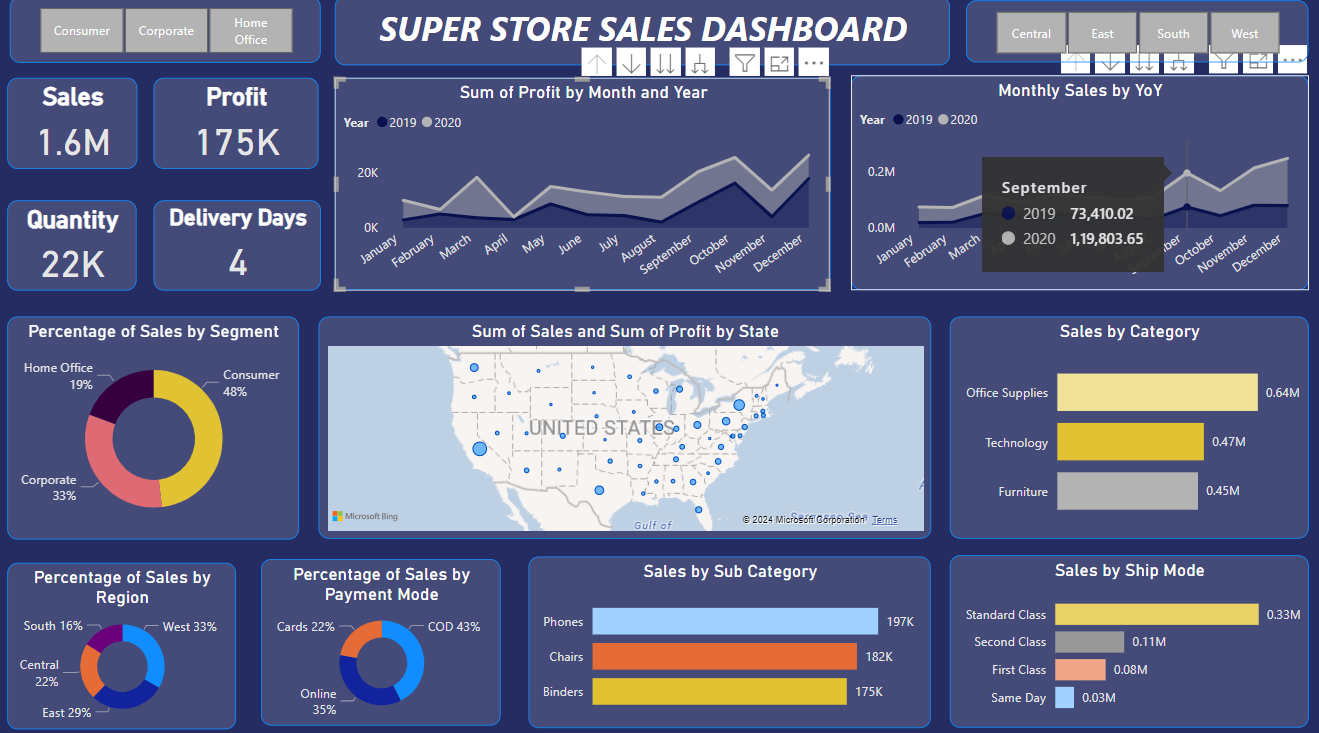

What the dashboard file says about the page in this screenshot:
{"tool":"powerbi","page":{"name":"Page 1","canvas":[1280,720],"ordinal":0},"visuals":[{"type":"clusteredBarChart","title":"Sales by Category","fields":{"Category":["SuperStore_Sales_Dataset.Category"],"Y":["Sum(SuperStore_Sales_Dataset.Sales)"]},"box":[920.2,311.2,346.1,214.7],"z":0},{"type":"clusteredBarChart","title":"Sales by Sub Category","fields":{"Category":["SuperStore_Sales_Dataset.Sub-Category"],"Y":["Sum(SuperStore_Sales_Dataset.Sales)"]},"box":[513.8,542.7,388.3,165.2],"z":1000},{"type":"clusteredBarChart","title":"Sales by Ship Mode","fields":{"Category":["SuperStore_Sales_Dataset.Ship Mode"],"Y":["Sum(SuperStore_Sales_Dataset.Sales)"]},"box":[920,541.2,346.2,166.2],"z":2000},{"type":"stackedAreaChart","title":"Monthly Sales by YoY","fields":{"Y":["Sum(SuperStore_Sales_Dataset.Sales)"],"Category":["SuperStore_Sales_Dataset.Order Date.Variation.Date Hierarchy.Month","SuperStore_Sales_Dataset.Order Date.Variation.Date Hierarchy.Day"],"Series":["SuperStore_Sales_Dataset.Order Date.Variation.Date Hierarchy.Year"]},"box":[825,78.8,441.2,207.5],"z":3000},{"type":"stackedAreaChart","fields":{"Category":["SuperStore_Sales_Dataset.Order Date.Variation.Date Hierarchy.Month","SuperStore_Sales_Dataset.Order Date.Variation.Date Hierarchy.Day"],"Series":["SuperStore_Sales_Dataset.Order Date.Variation.Date Hierarchy.Year"],"Y":["Sum(SuperStore_Sales_Dataset.Profit)"]},"box":[326.2,81.2,478.8,205],"z":4000},{"type":"map","fields":{"Category":["SuperStore_Sales_Dataset.State"],"Size":["Sum(SuperStore_Sales_Dataset.Sales)"]},"box":[311.2,311.2,591,214.7],"z":5000},{"type":"donutChart","title":"Percentage of Sales by Segment","fields":{"Category":["SuperStore_Sales_Dataset.Segment"],"Y":["Sum(SuperStore_Sales_Dataset.Sales)"]},"box":[11.2,311.2,281.2,215],"z":6000},{"type":"donutChart","title":"Percentage of Sales by Payment Mode","fields":{"Category":["SuperStore_Sales_Dataset.Payment Mode"],"Y":["Sum(SuperStore_Sales_Dataset.Sales)"]},"box":[255.7,545.1,231.6,160.4],"z":7000},{"type":"slicer","fields":{"Values":["SuperStore_Sales_Dataset.Region"]},"box":[936.2,6.2,330,60],"z":8000},{"type":"textbox","box":[326.2,2.5,593.8,66.2],"z":9000},{"type":"card","title":"Sales","fields":{"Values":["Sum(SuperStore_Sales_Dataset.Sales)"]},"box":[11.2,81.2,125,87.5],"z":10000},{"type":"card","title":"Quantity","fields":{"Values":["Sum(SuperStore_Sales_Dataset.Quantity)"]},"box":[11.2,198.8,125,87.5],"z":11000},{"type":"card","title":"Profit","fields":{"Values":["Sum(SuperStore_Sales_Dataset.Profit)"]},"box":[161.2,81.2,152.5,87.5],"z":12000},{"type":"card","title":"Delivery Days","fields":{"Values":["Avg(SuperStore_Sales_Dataset.AvgDelievery)"]},"box":[162.5,198.8,151.2,87.5],"z":13000},{"type":"donutChart","title":"Percentage of Sales by Region","fields":{"Category":["SuperStore_Sales_Dataset.Region"],"Y":["Sum(SuperStore_Sales_Dataset.Sales)"]},"box":[10.9,548.7,220.7,160.4],"z":14000},{"type":"slicer","fields":{"Values":["SuperStore_Sales_Dataset.Segment"]},"box":[11.2,2.5,300,63.8],"z":15000}]}

Visuals, with their boxes in screenshot pixels (x1, y1, x2, y2), scaled from the page's 1280x720 canvas onto the 1319x733 screenshot:
"Sales by Category" clusteredBarChart: <region>948, 317, 1305, 535</region>
"Sales by Sub Category" clusteredBarChart: <region>529, 552, 930, 721</region>
"Sales by Ship Mode" clusteredBarChart: <region>948, 551, 1305, 720</region>
"Monthly Sales by YoY" stackedAreaChart: <region>850, 80, 1305, 291</region>
stackedAreaChart - SuperStore_Sales_Dataset.Order Date.Variation.Date Hierarchy.Month x SuperStore_Sales_Dataset.Order Date.Variation.Date Hierarchy.Day: <region>336, 83, 830, 291</region>
map - SuperStore_Sales_Dataset.State x Sum(SuperStore_Sales_Dataset.Sales): <region>321, 317, 930, 535</region>
"Percentage of Sales by Segment" donutChart: <region>12, 317, 301, 536</region>
"Percentage of Sales by Payment Mode" donutChart: <region>263, 555, 502, 718</region>
slicer - SuperStore_Sales_Dataset.Region: <region>965, 6, 1305, 67</region>
textbox: <region>336, 3, 948, 70</region>
"Sales" card: <region>12, 83, 140, 172</region>
"Quantity" card: <region>12, 202, 140, 291</region>
"Profit" card: <region>166, 83, 323, 172</region>
"Delivery Days" card: <region>167, 202, 323, 291</region>
"Percentage of Sales by Region" donutChart: <region>11, 559, 239, 722</region>
slicer - SuperStore_Sales_Dataset.Segment: <region>12, 3, 321, 67</region>
